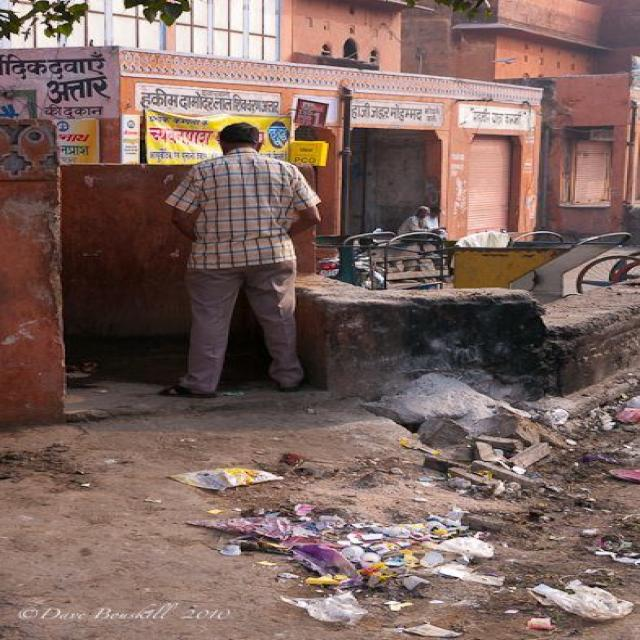garbage: (166, 439, 640, 634)
